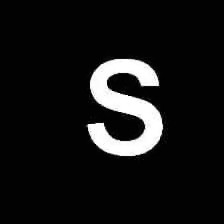LTR_S: (82, 55, 167, 160)
